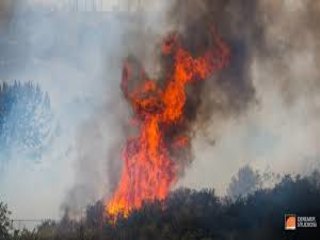fire: (118, 32, 236, 216)
smoke: (213, 8, 310, 147), (35, 67, 114, 214)
